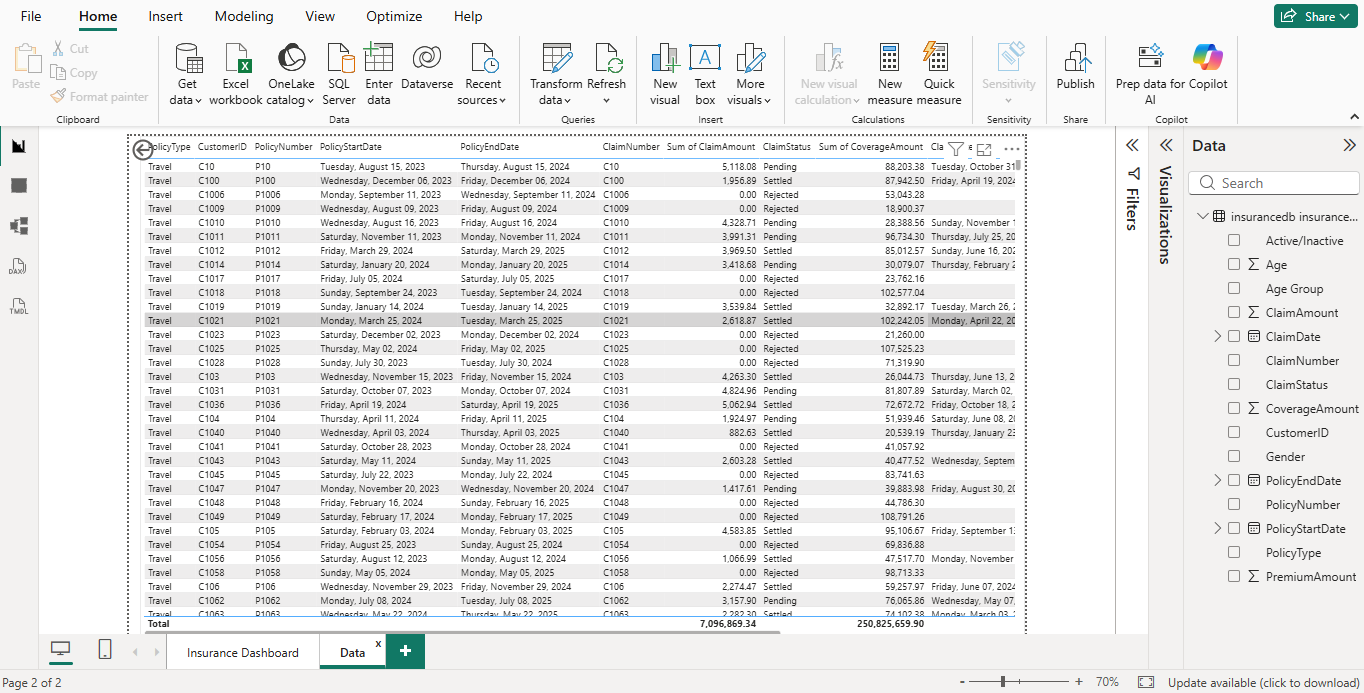

Layout of this report page (visuals, bound fields, positions):
{"tool":"powerbi","page":{"name":"Data","canvas":[1280,720],"ordinal":1},"visuals":[{"type":"tableEx","fields":{"Values":["insurancedb insurance_data.PolicyType","insurancedb insurance_data.CustomerID","insurancedb insurance_data.PolicyNumber","insurancedb insurance_data.PolicyStartDate","insurancedb insurance_data.PolicyEndDate","insurancedb insurance_data.ClaimNumber","Sum(insurancedb insurance_data.ClaimAmount)","insurancedb insurance_data.ClaimStatus","Sum(insurancedb insurance_data.CoverageAmount)","insurancedb insurance_data.ClaimDate","insurancedb insurance_data.Age Group","insurancedb insurance_data.Age"]},"box":[16,0,1264,720],"z":0},{"type":"actionButton","box":[0,0,100,40],"z":1}]}

Visuals, with their boxes on the page's 1280x720 design canvas (x1, y1, x2, y2). These are canvas units, not pixel positions in the 1364x693 screenshot, which may show the page scaled, cropped or inside an application window:
tableEx - insurancedb insurance_data.PolicyType x insurancedb insurance_data.CustomerID: l=16, t=0, r=1280, b=720
actionButton: l=0, t=0, r=100, b=40
